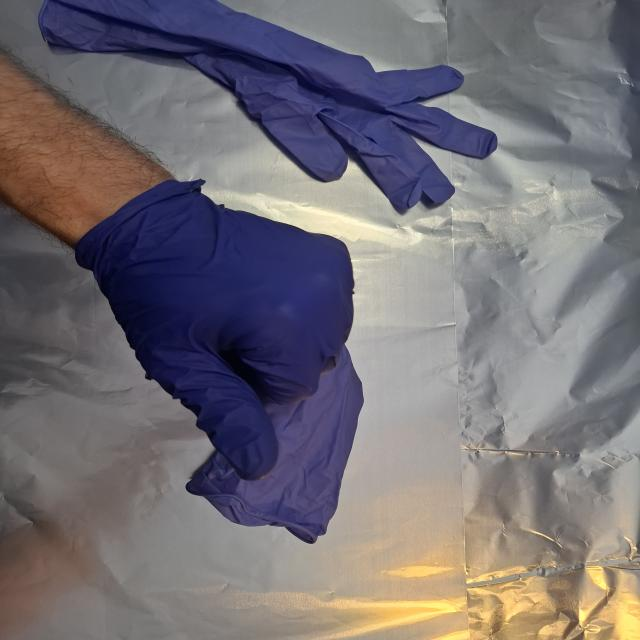glove_on: (85, 186, 361, 484)
